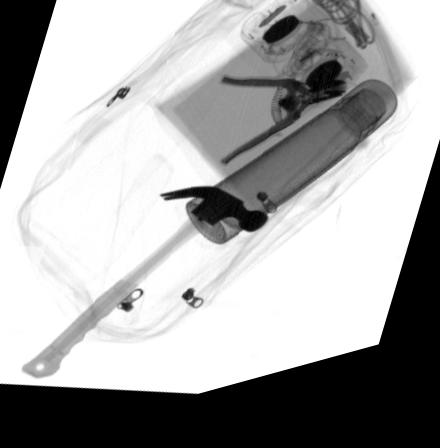Hammer: (21, 197, 267, 380)
Pliers: (219, 89, 345, 175)
